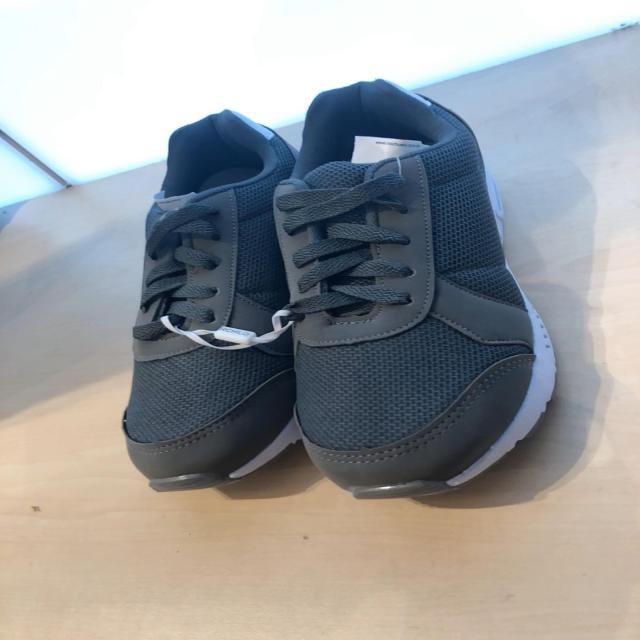shoe: (278, 85, 549, 502), (120, 109, 299, 494)
